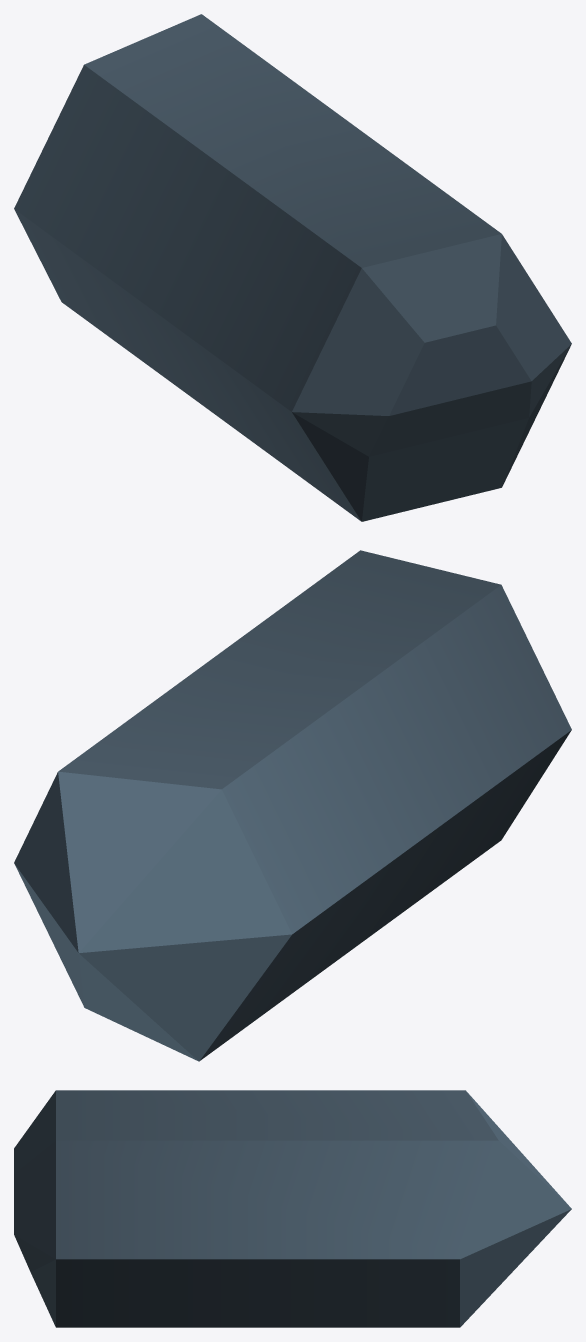
Rendered from CalciteCrystal.009.glb.
The picture shows the model from 3 angles, top to bottom: view 1: azimuth 30°, elevation 25°; view 2: azimuth 150°, elevation 25°; view 3: azimuth 270°, elevation 25°; orthographic projection. The views are drawn at different scales.
Visible parts, largest first — view 1: CalciteCrystal.009; view 2: CalciteCrystal.009; view 3: CalciteCrystal.009.
Boxes of the visible parts, x1,y1,x2,y2 form: CalciteCrystal.009: (14,14,571,521); CalciteCrystal.009: (14,550,571,1061); CalciteCrystal.009: (14,1090,571,1327).
Bounding box in the file's own units: 139 × 121 × 326.
